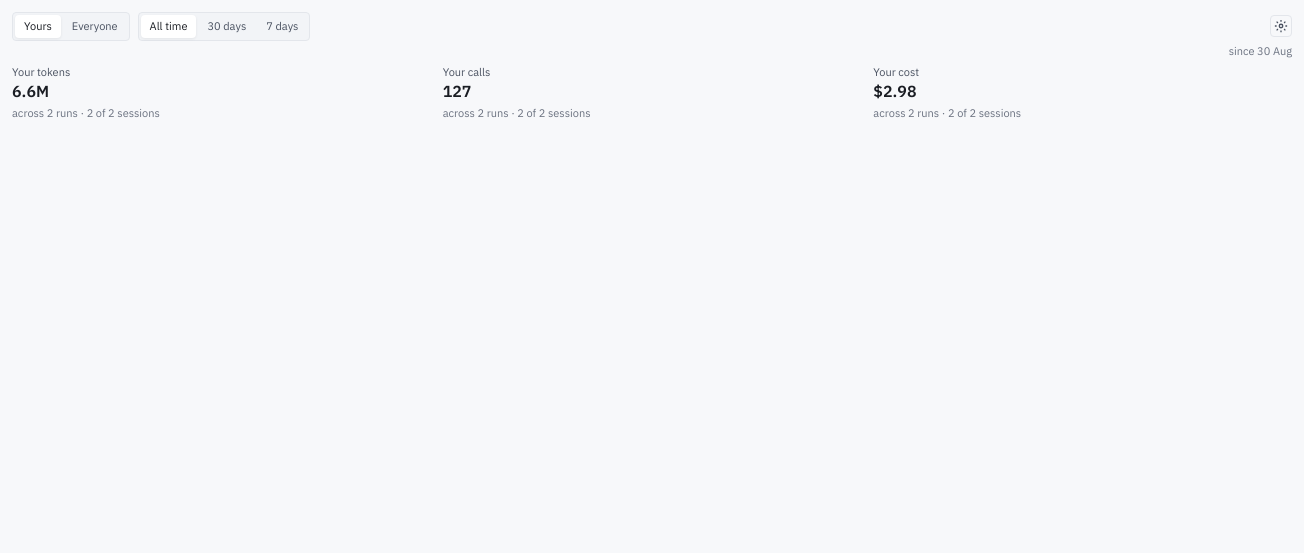
Test case: MetricBlock — the picker › offers every registry metric as a real checkbox, not as a menu of commands
Click the button with test id "metric-picker-toggle". click: point(1281, 26)
box: top-left (1270, 15), bottom-right (1292, 37)
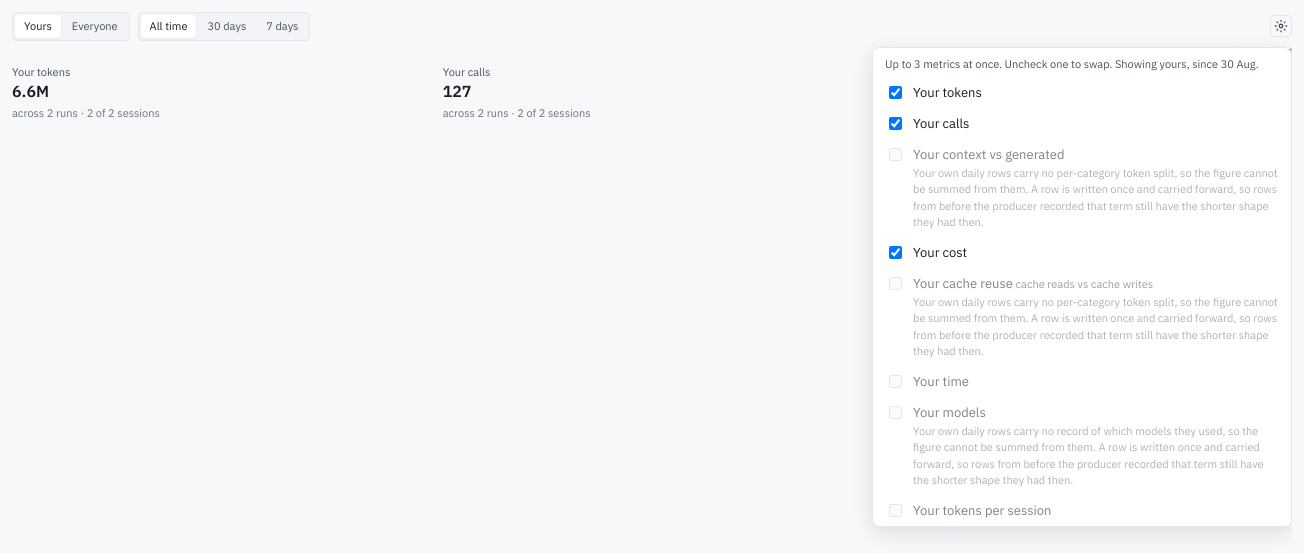
Check: the number of checkboxes is 8
Check: the label with test id "metric-option-row-contextVsGenerated" shows "Your context vs generated", box top-left (913, 146), bottom-right (1064, 162)
Check: the label with test id "metric-option-row-cacheReuse" shows "Your cache reuse", box top-left (913, 274), bottom-right (1013, 292)
